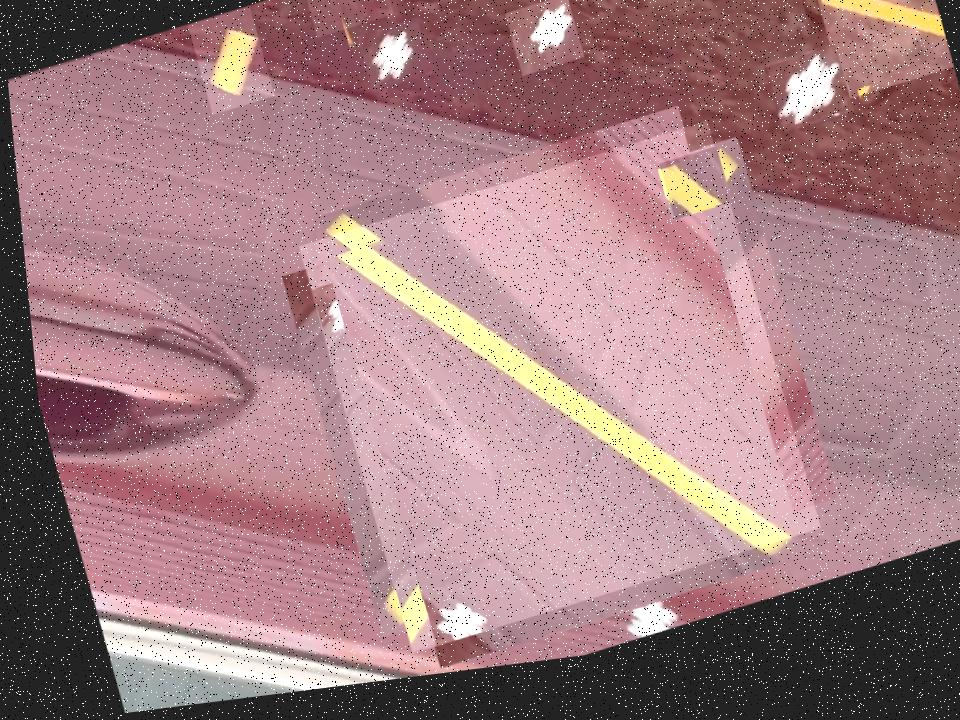dent: (761, 63, 849, 153), (502, 8, 582, 90), (354, 27, 430, 102), (653, 163, 725, 236)
scratch: (287, 131, 813, 670), (808, 0, 951, 124), (186, 10, 273, 121), (302, 0, 394, 46), (4, 48, 121, 82)
